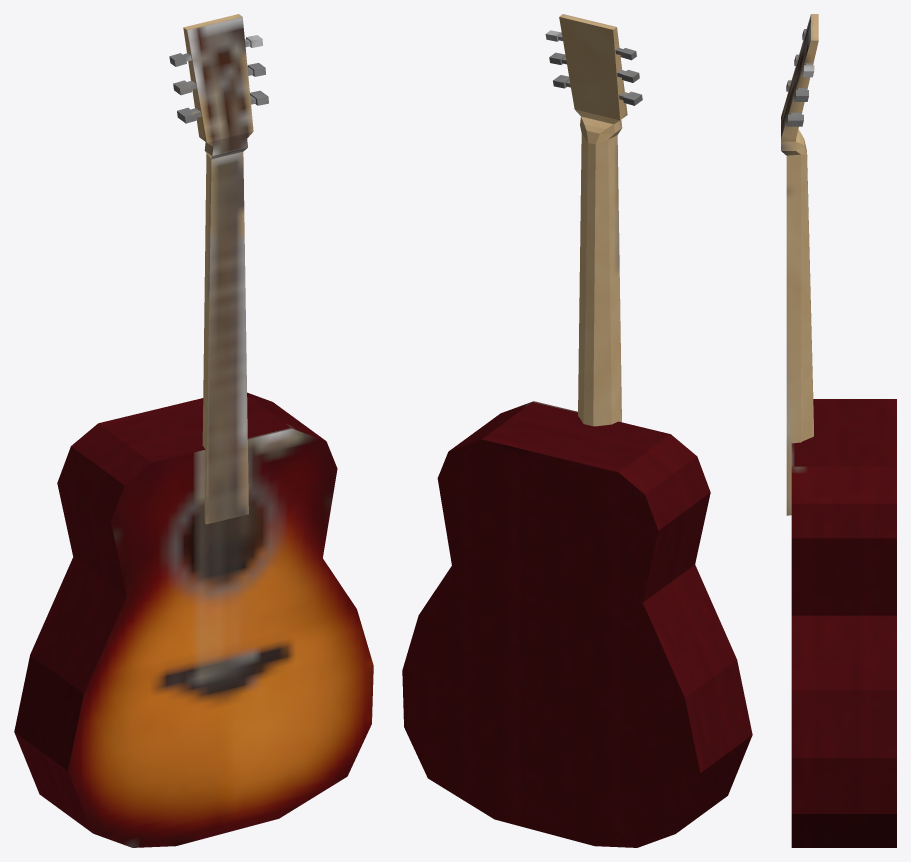
Rendered from int_guitar_acoustic2.fbx.
3 views of the same model, side by side, from view 1: azimuth 30°, elevation 25°; view 2: azimuth 150°, elevation 25°; view 3: azimuth 270°, elevation 25° (orthographic). The views are drawn at different scales.
Parts seen in each view (by area): view 1: acoustic_guitar.003; view 2: acoustic_guitar.003; view 3: acoustic_guitar.003.
Part boxes in pixels (box(x1,y1,x2,y2)): acoustic_guitar.003: box(14, 14, 373, 847); acoustic_guitar.003: box(402, 14, 752, 847); acoustic_guitar.003: box(781, 14, 896, 847).
Bounding box in the file's own units: 73.55 × 185 × 24.57.
